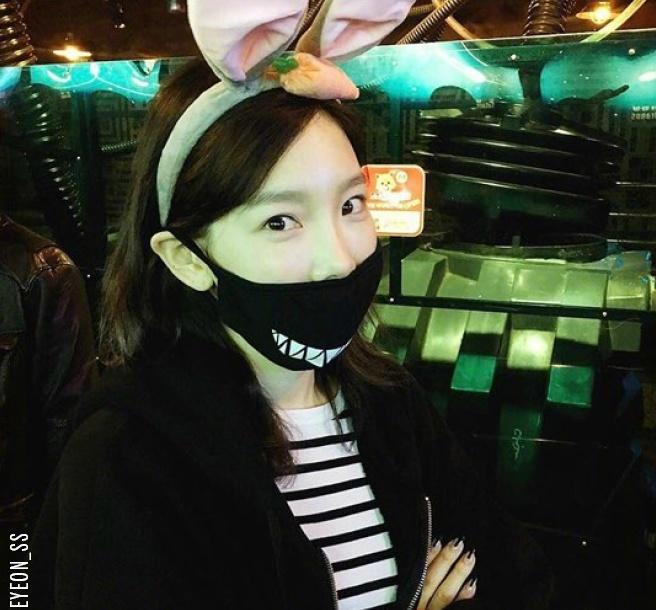WRONG: (188, 161, 394, 367)
